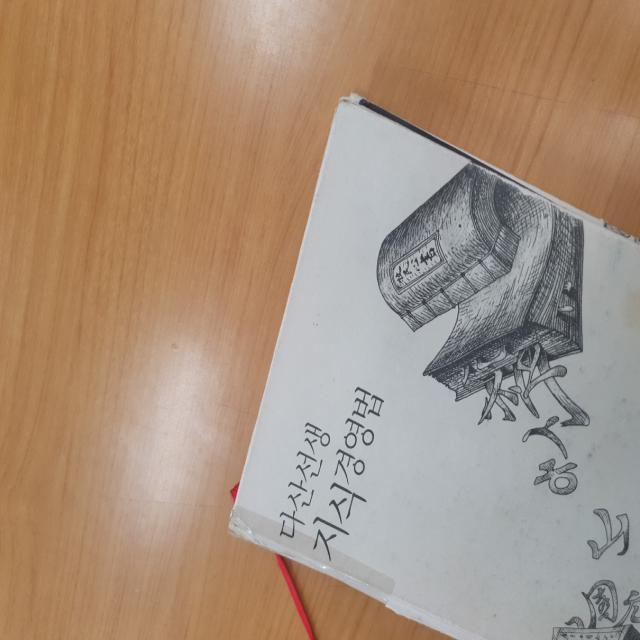Ripped: (219, 507, 302, 566), (332, 86, 408, 131), (384, 604, 459, 639)
Wornout: (519, 183, 592, 226), (469, 158, 521, 192)
